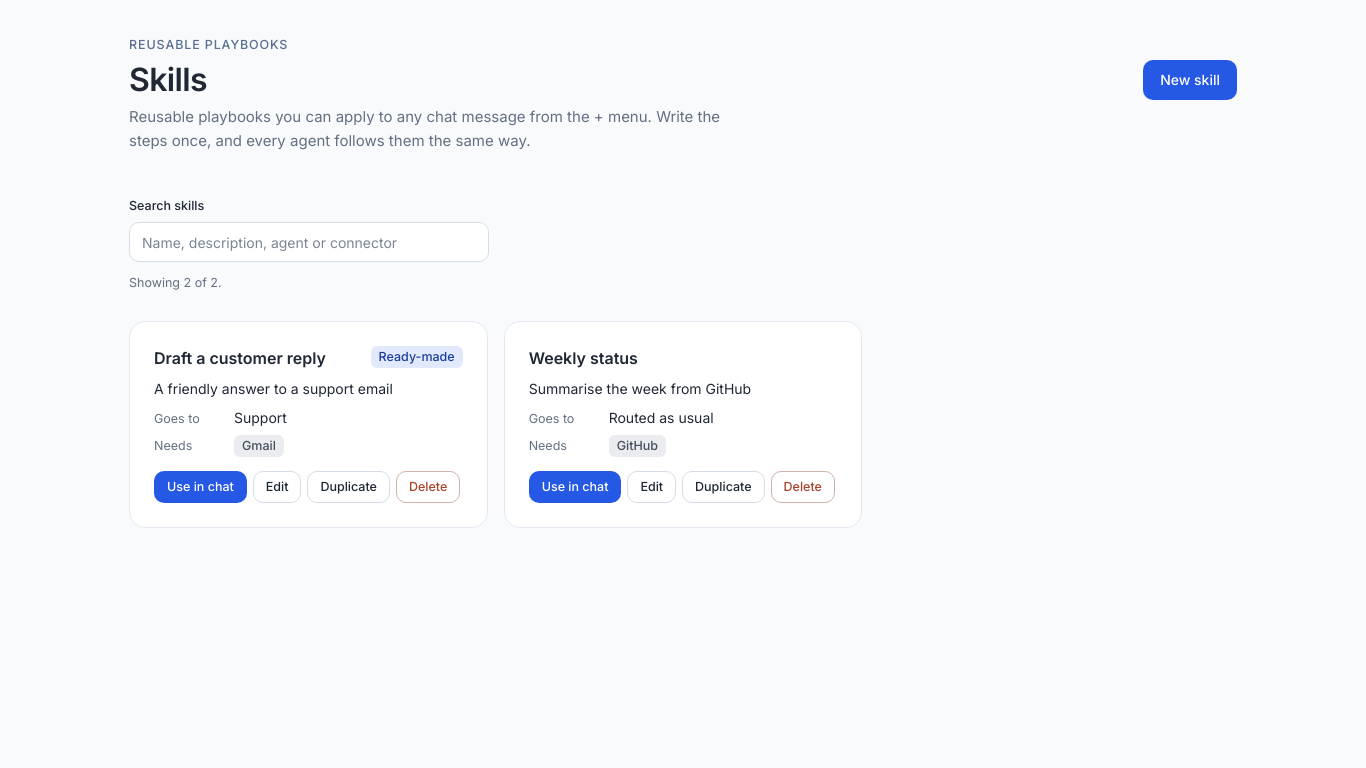
Skills page › duplicates a skill and opens the copy
Click the button with aria-label "Duplicate Weekly status" at (723, 487), box [682,471,765,503]
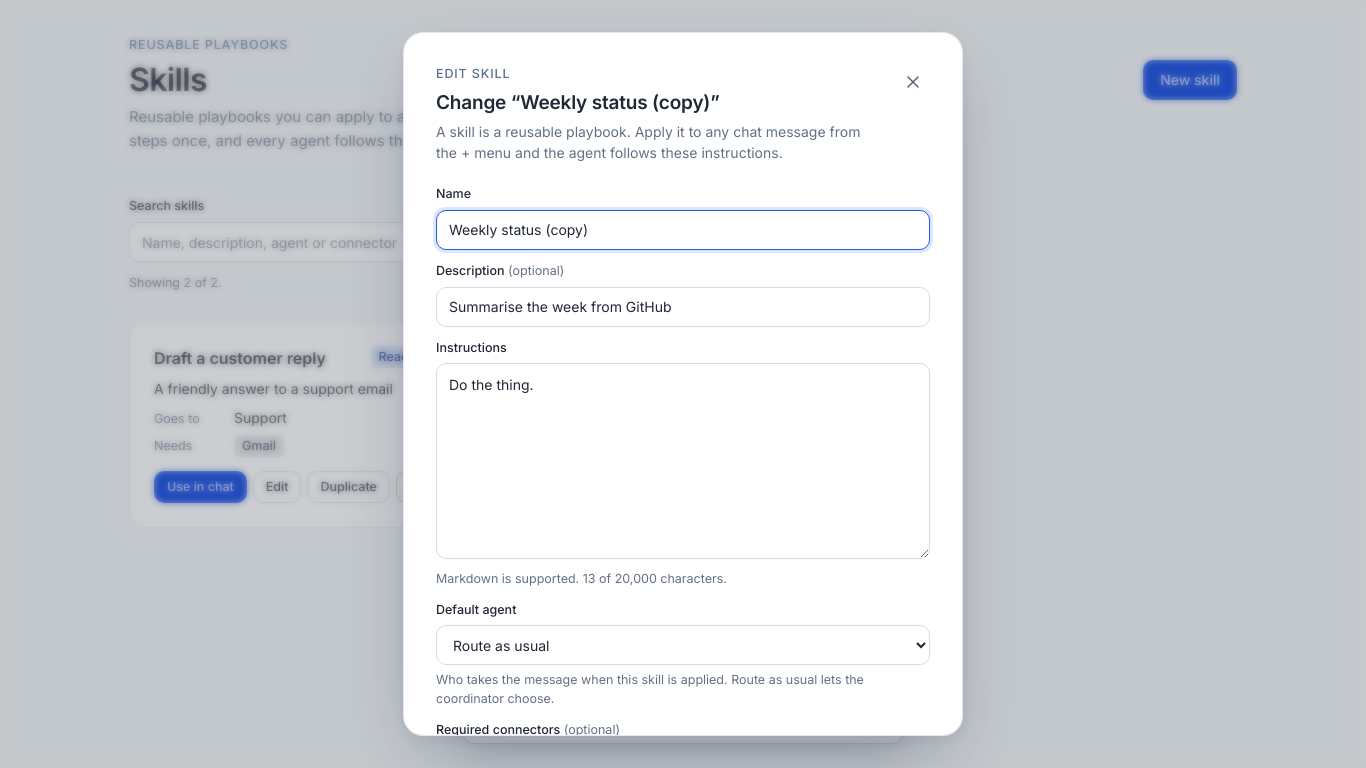
Check: the heading "Change “Weekly status (copy)”" is shown, box [436,90,720,114]
